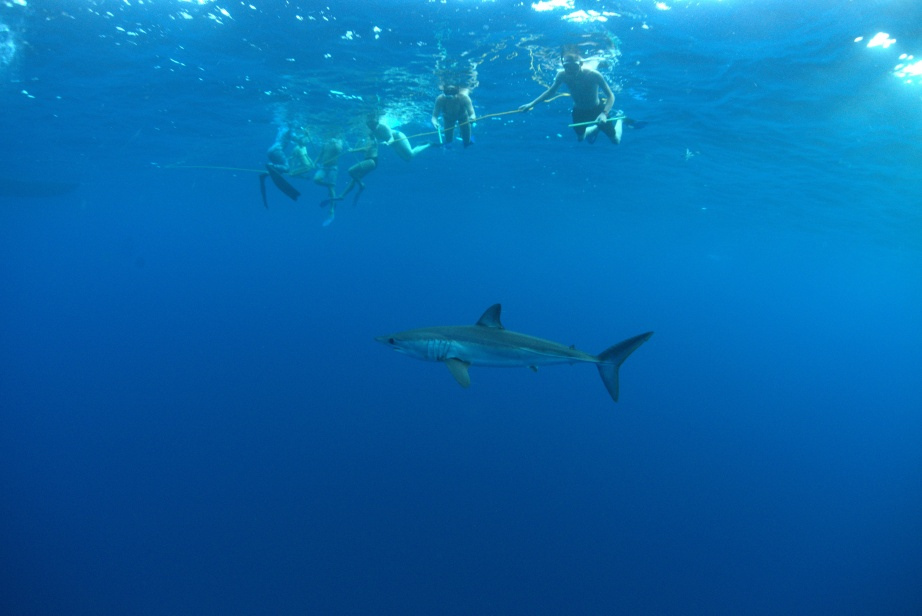Mako: (357, 301, 658, 415)
